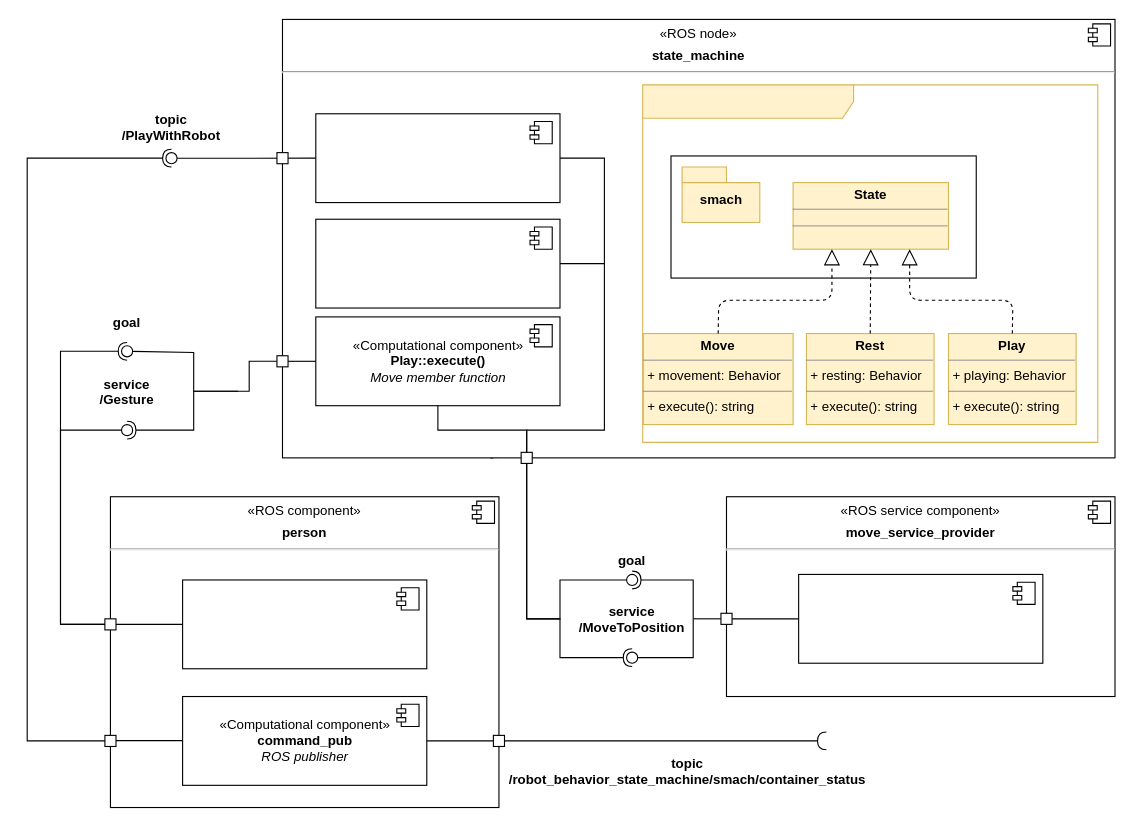
Image size: 1134x827. Some labels were removed from this diagram. The centre of each missing label's shape, as x and y in pixels:
"smach state machine classes" belongs at point 870,263.
"«Computational component» Move::execute() Move member function" belongs at point 437,158.
"«Computational component» MoveToGivenPosition Service callback" belongs at point 920,618.
"«Computational component» PointingGesture Service callback" belongs at point 304,624.
"«Computational component» Rest::execute() Move member function" belongs at point 437,263.
